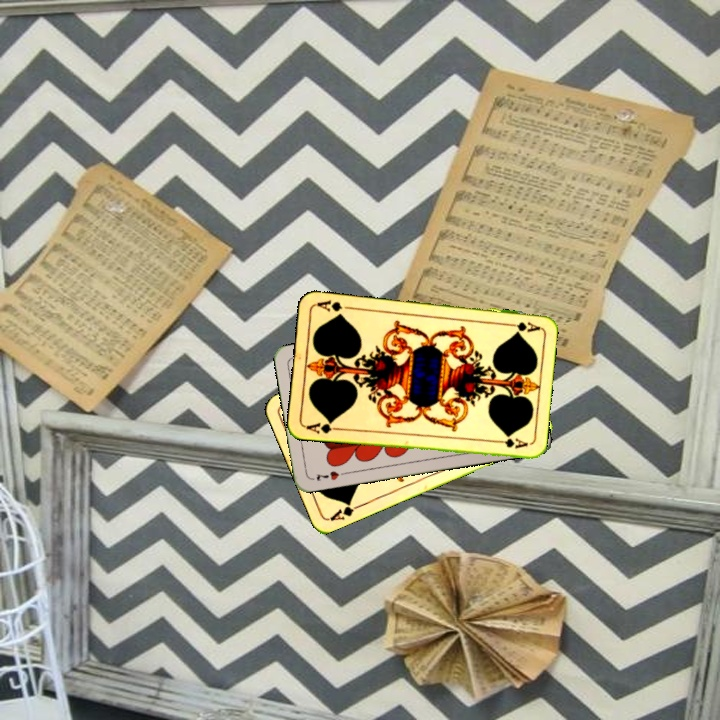GA: (326, 498, 364, 523), (302, 417, 343, 436), (501, 318, 542, 335)
H7: (312, 467, 349, 484)
